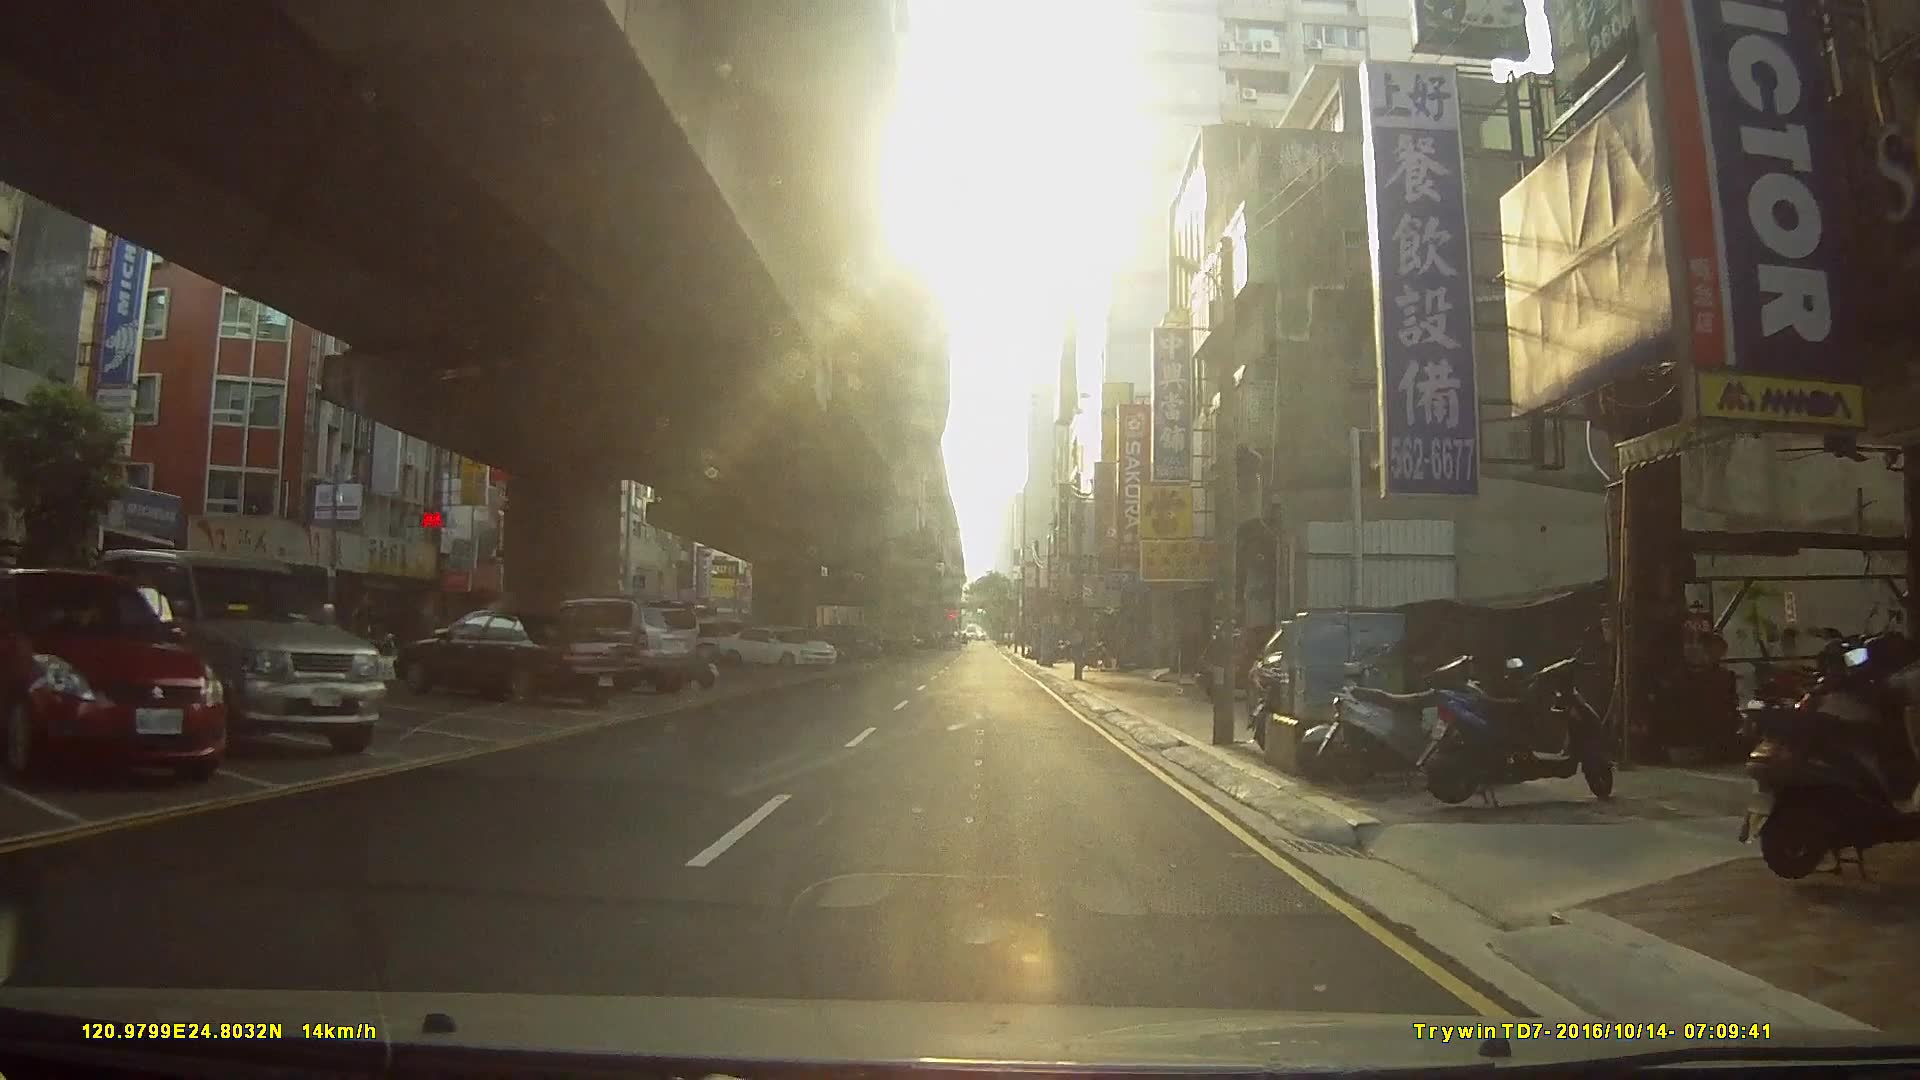vehicle: (90, 547, 384, 760), (0, 567, 222, 785), (397, 607, 647, 707), (531, 593, 703, 696), (713, 626, 840, 671)
